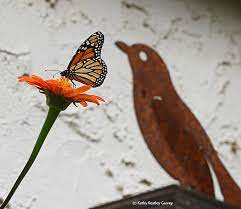kelebek: (46, 33, 109, 88)
